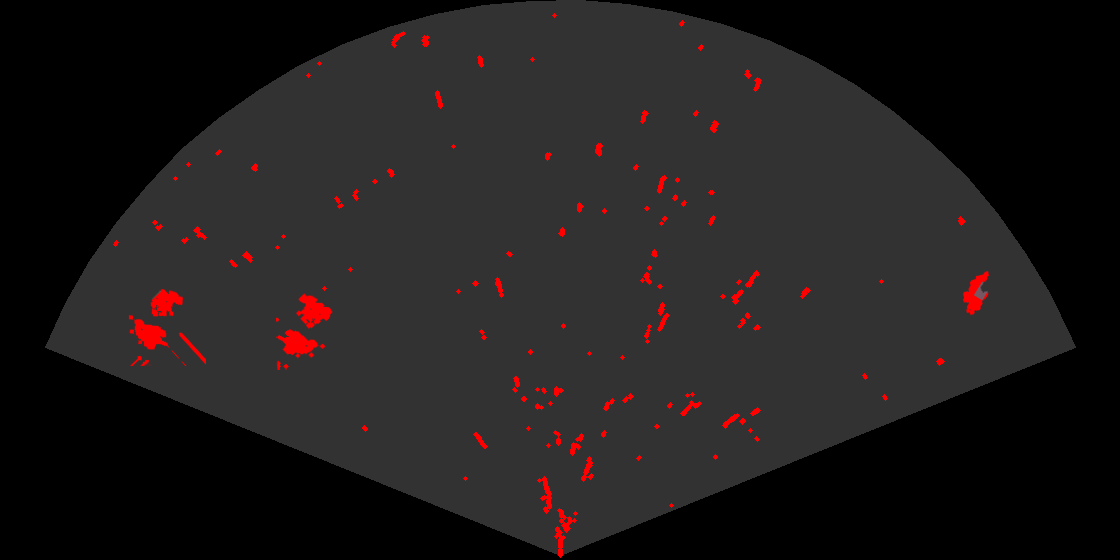AUV: (961, 269, 991, 316)
cage: (127, 287, 206, 366), (276, 292, 334, 370)
